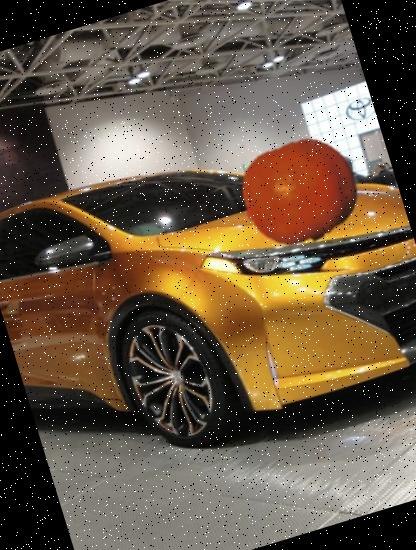Clementine: (228, 120, 372, 264)
